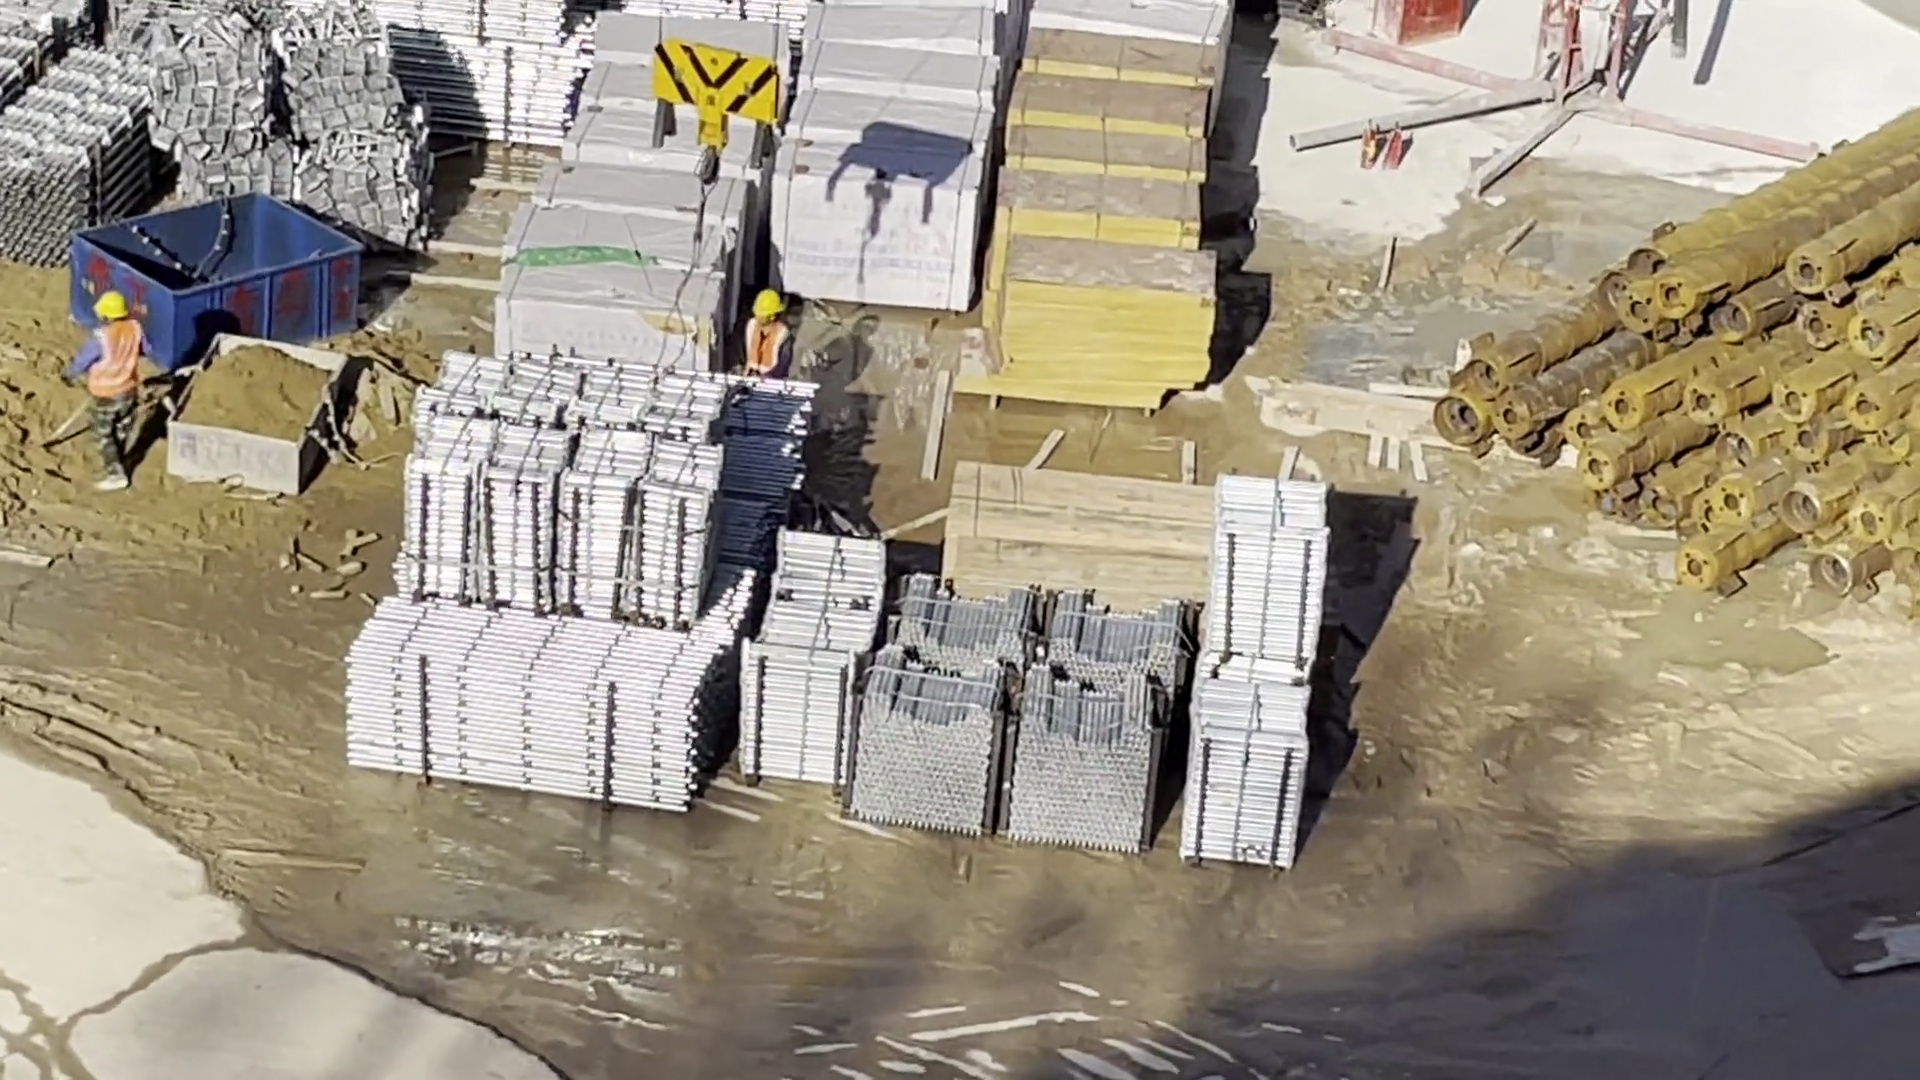helmet: (751, 286, 790, 323), (89, 290, 131, 322)
hook: (623, 33, 784, 157)
hopper: (81, 176, 361, 332), (152, 328, 358, 485)
person: (57, 277, 165, 508), (725, 275, 813, 407)
scaffold: (426, 348, 851, 830), (860, 588, 1185, 851), (1200, 465, 1361, 880), (1, 1, 90, 261)
vest: (86, 328, 138, 387), (753, 314, 803, 370)
